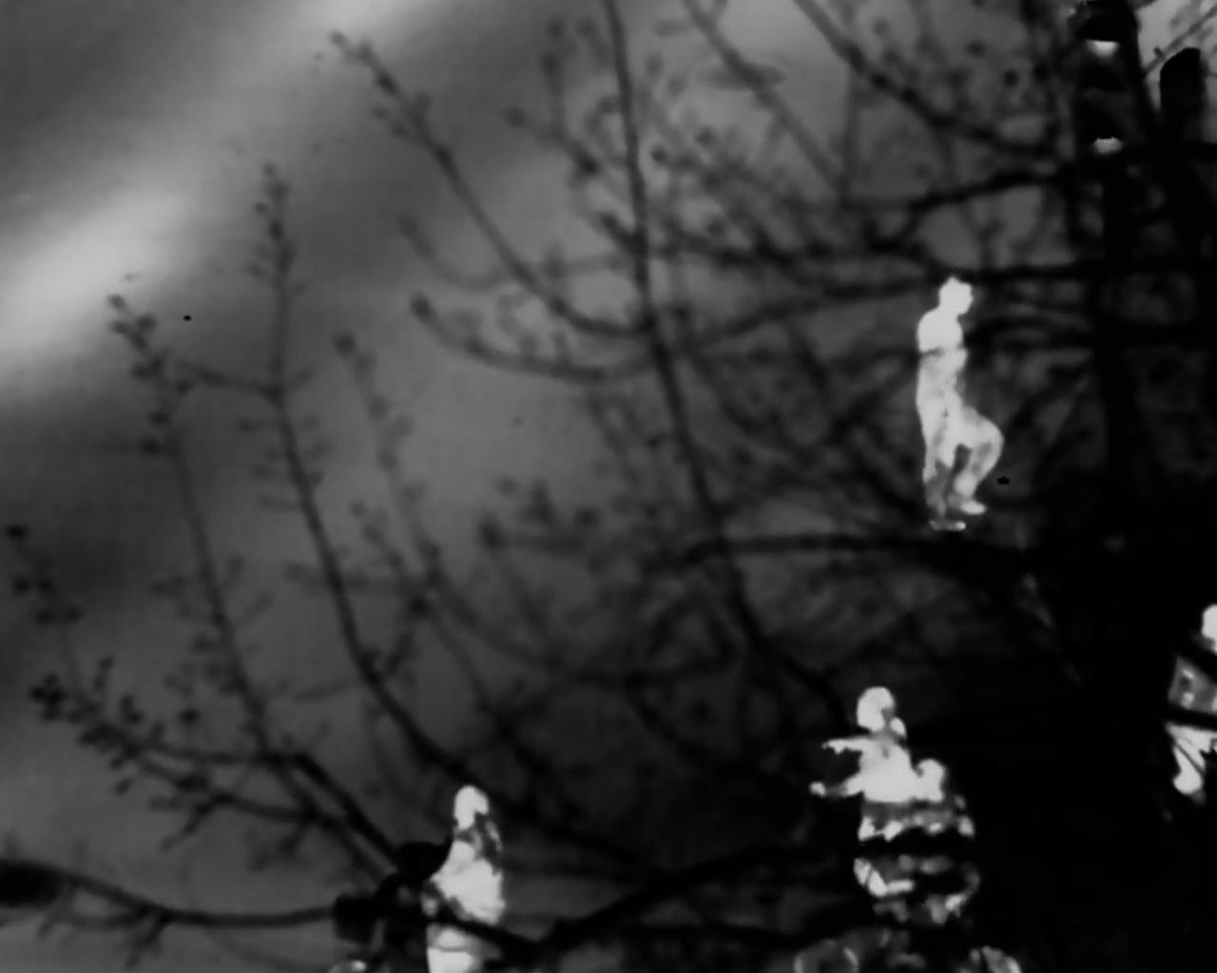person: (904, 270, 1010, 541), (842, 675, 935, 882), (414, 790, 516, 973), (1157, 593, 1217, 803)
